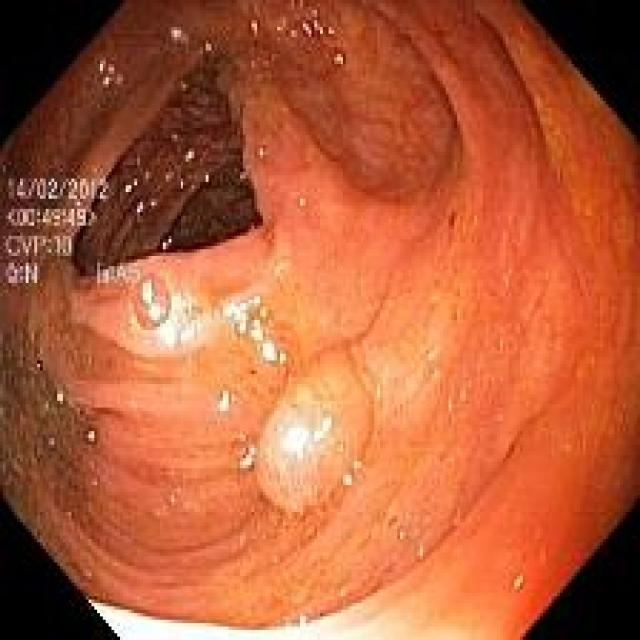Polyps: (256, 352, 372, 514)
